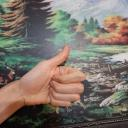ThumbsUp: (24, 44, 86, 109)
